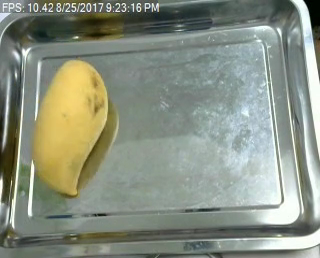Mango: (29, 59, 109, 198)
